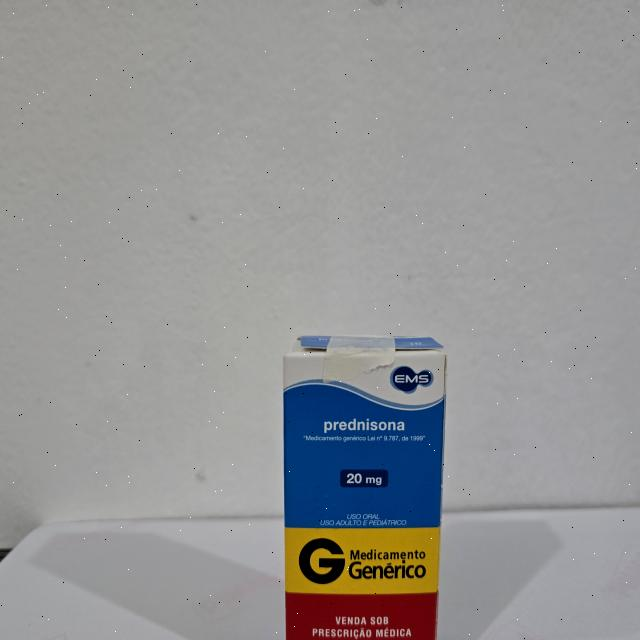prednisona: (280, 331, 450, 640)
